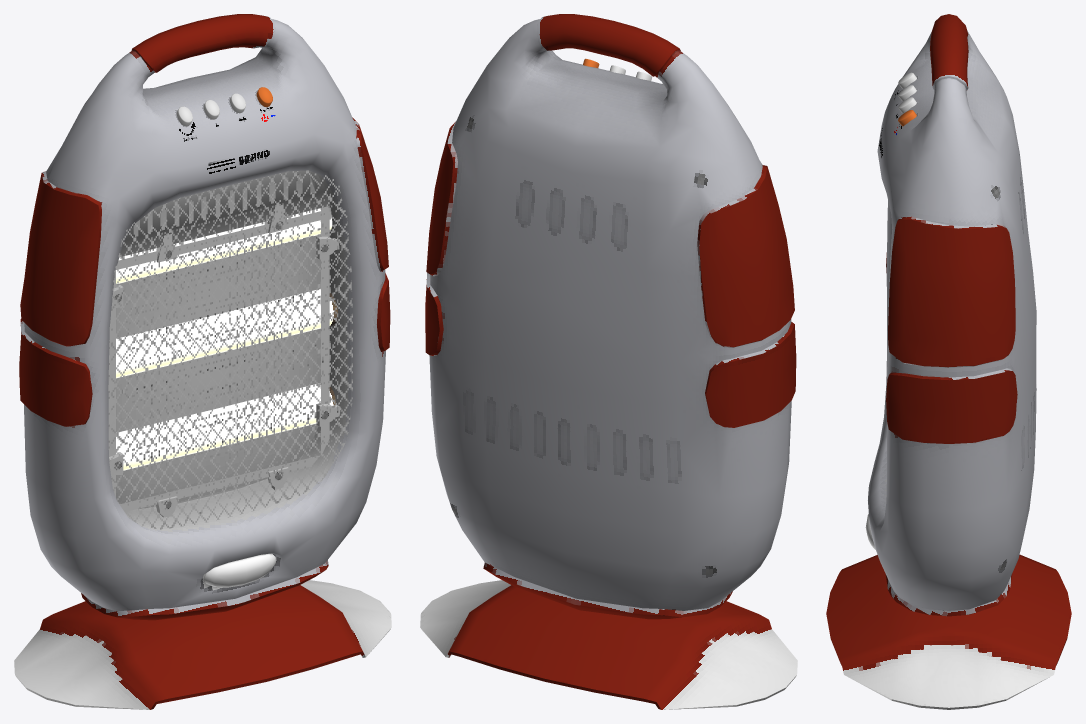
File: scrap_heater.glb
The picture shows the model from 3 angles, left to right: view 1: azimuth 30°, elevation 25°; view 2: azimuth 150°, elevation 25°; view 3: azimuth 270°, elevation 25°; orthographic projection. The views are drawn at different scales.
Visible parts, largest first — view 1: portableheaterfinal.001, alphatex, portableheater, halogen.001, halogen.003, panneaufer, halogen.002, ligne.001, ligne.002, ligne.003; view 2: portableheaterfinal.001, portableheater; view 3: portableheaterfinal.001, portableheater.
Part boxes in pixels (left/top/right/bottom): portableheaterfinal.001: left=19, top=14, right=390, bottom=620; alphatex: left=108, top=170, right=352, bottom=529; portableheater: left=14, top=580, right=391, bottom=709; halogen.001: left=116, top=289, right=337, bottom=378; halogen.003: left=116, top=383, right=335, bottom=470; panneaufer: left=119, top=170, right=330, bottom=257; halogen.002: left=116, top=208, right=332, bottom=283; ligne.001: left=108, top=206, right=329, bottom=496; ligne.002: left=120, top=455, right=320, bottom=511; ligne.003: left=116, top=211, right=331, bottom=269; portableheaterfinal.001: left=425, top=14, right=796, bottom=619; portableheater: left=420, top=580, right=797, bottom=709; portableheaterfinal.001: left=865, top=14, right=1036, bottom=616; portableheater: left=826, top=554, right=1071, bottom=709.
Size of the model in its own units: 0.3559 by 0.6 by 0.2246.
2 materials, 2 textured.
